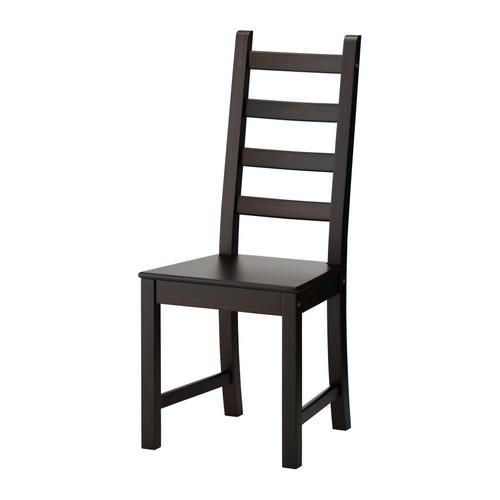chair: (136, 28, 365, 469)
